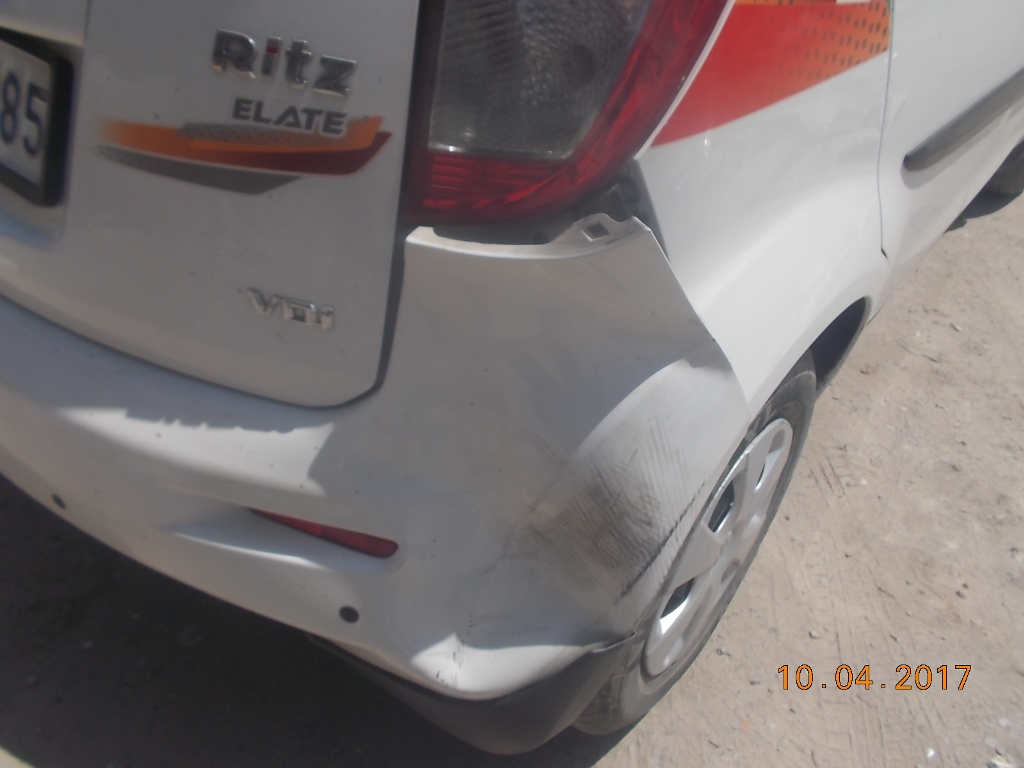Dent: (412, 478, 625, 666)
